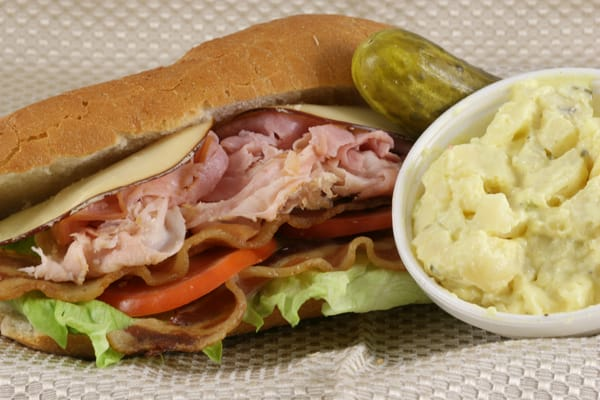soup: (0, 13, 516, 360)
sushi: (391, 65, 600, 340)
